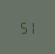five: (19, 19, 26, 33)
one: (27, 19, 34, 34)
